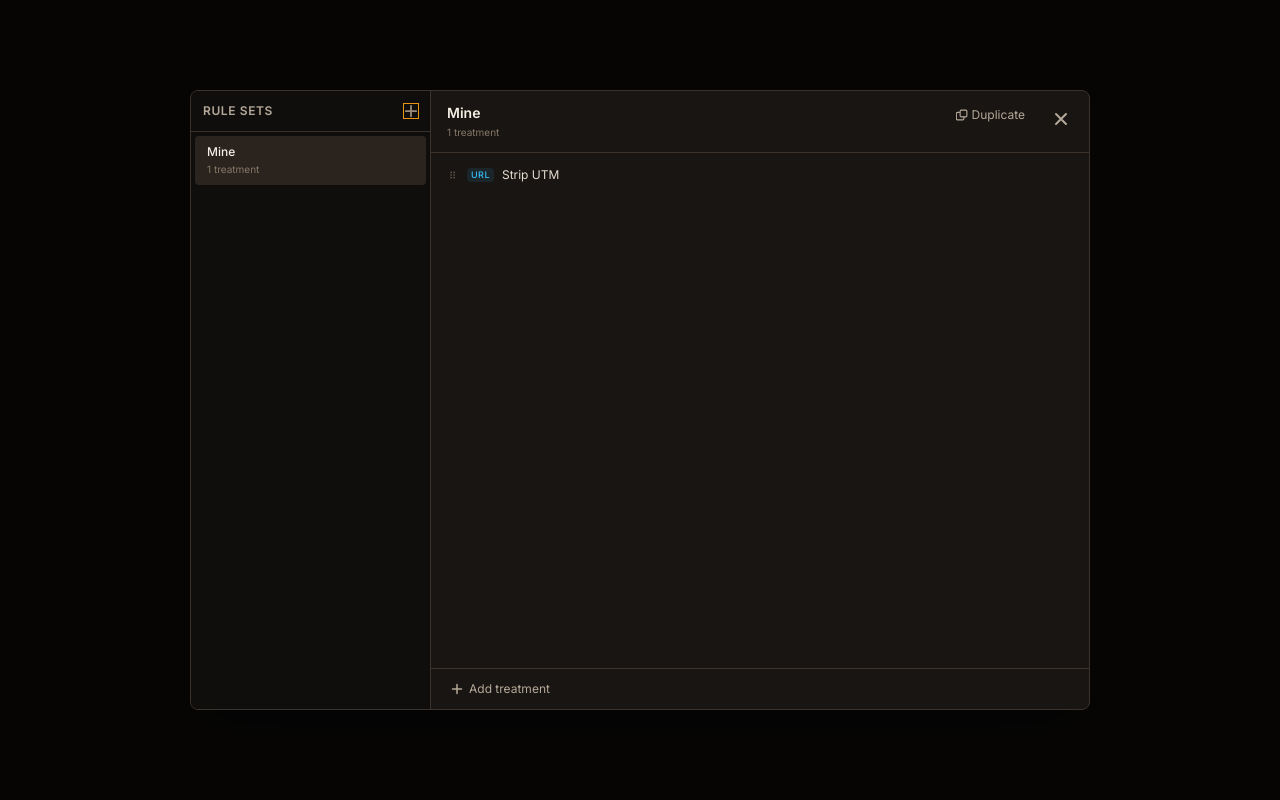
Test: RuleSetEditorModal › saves added treatments in order, with their config
The width and height of the screenshot is (1280, 800).
Expected: the heading "Mine" is shown, [447,104,480,121]
Click the button "Add treatment": coordinates (500, 689) [443,677,558,701]
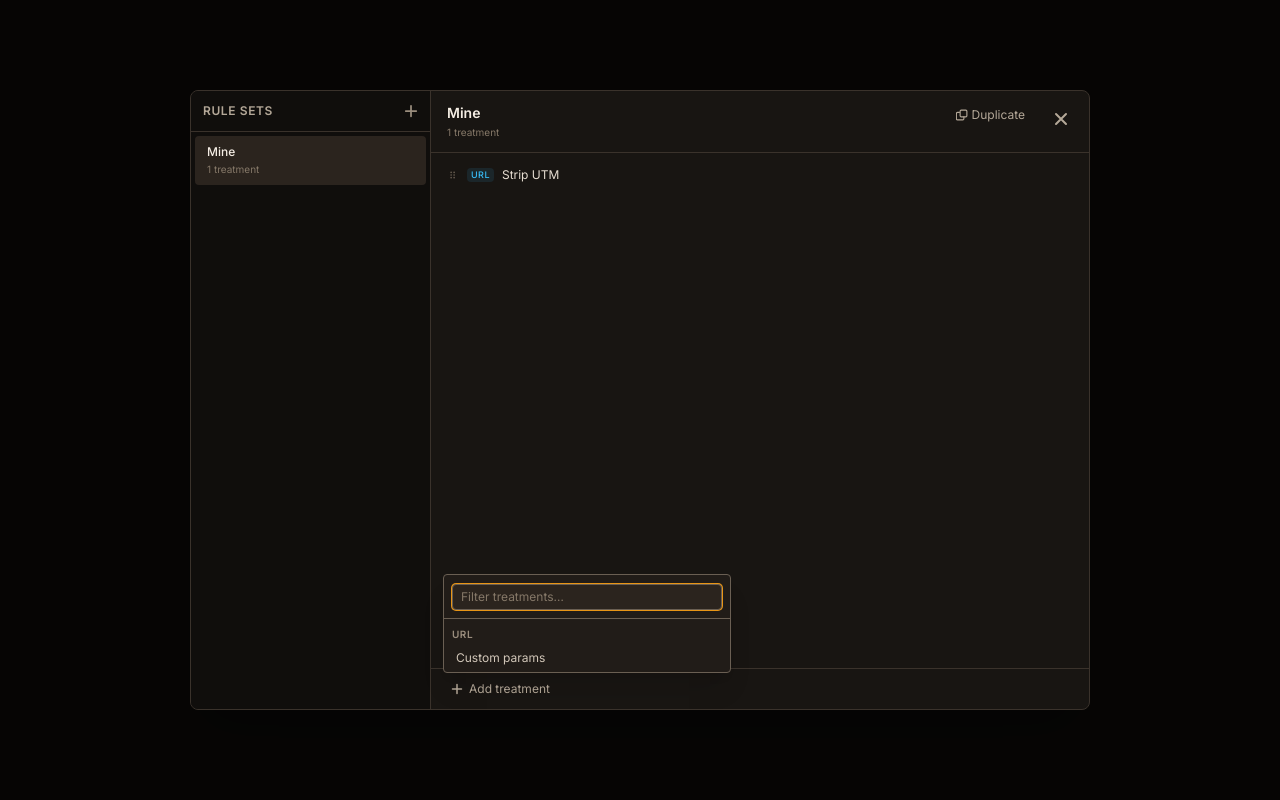
Click the button "Custom params": coordinates (501, 658) [444,644,730,672]
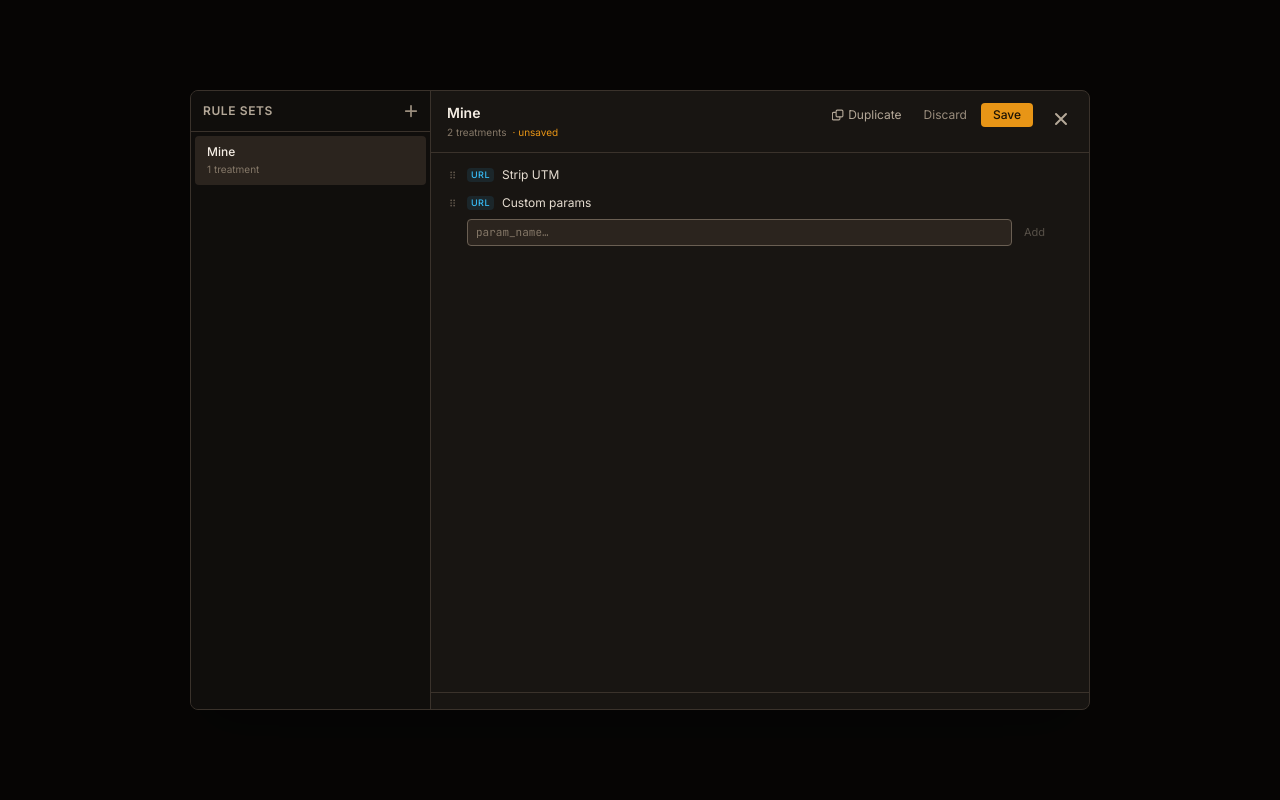
Expected: the text "· unsaved" is shown, [512,126,558,138]
In the field with placeholder "param_name…": coordinates (739, 232) [467,219,1012,246], type "fbclid"
Then press Enter
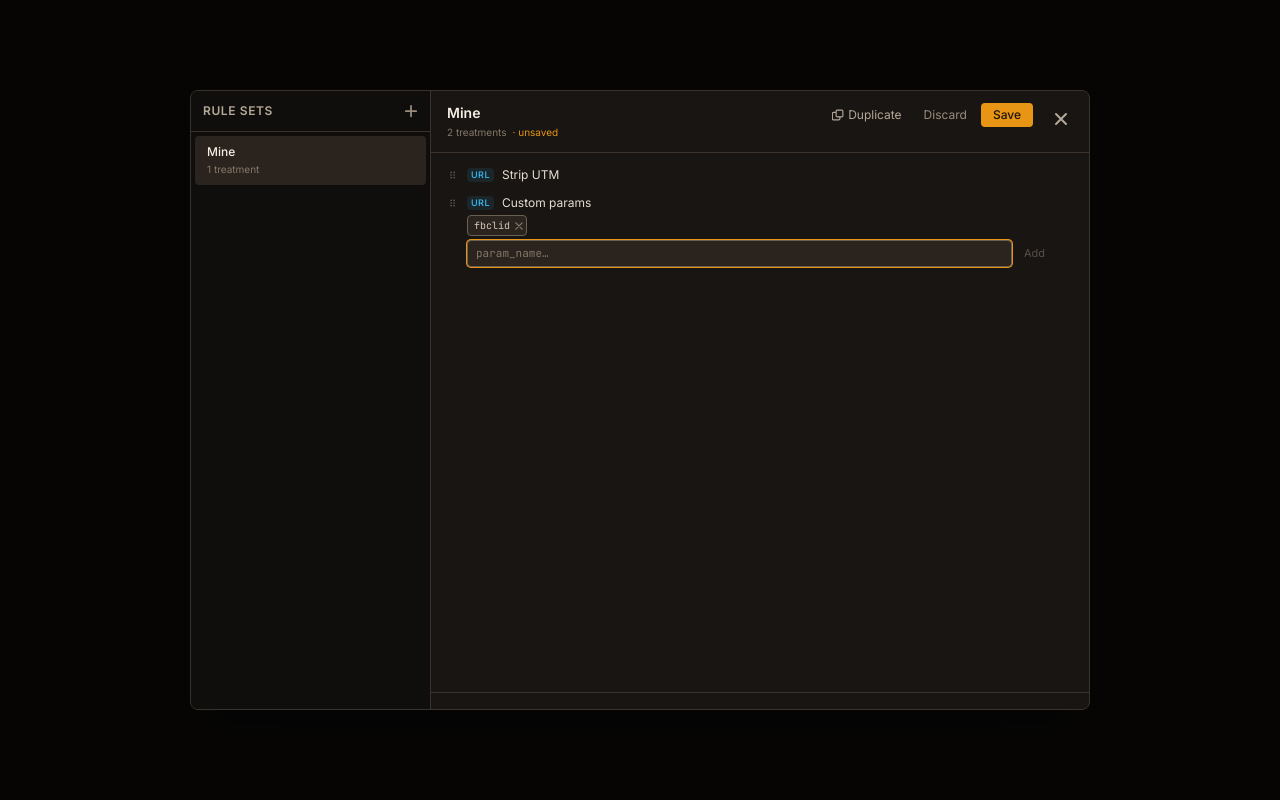
Click the button "Save": coordinates (1007, 115) [981,103,1033,127]
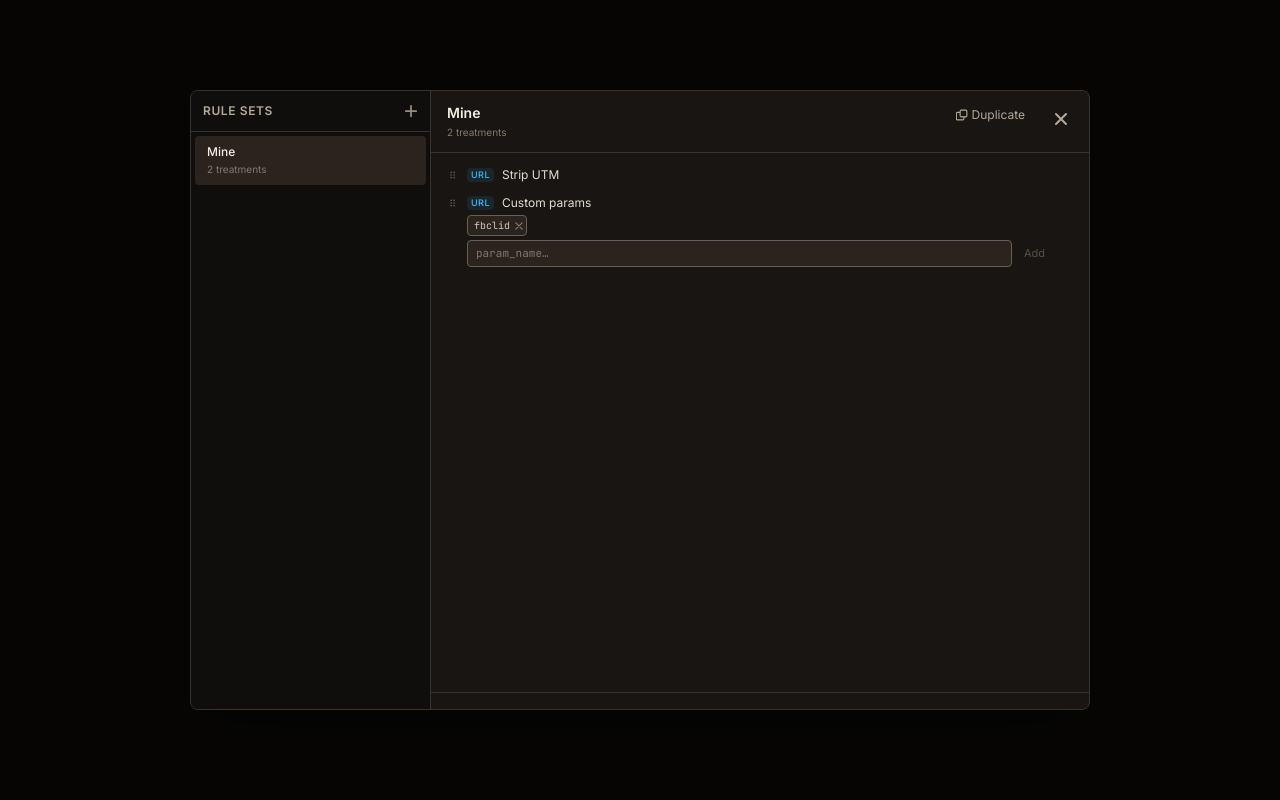
Expected: the text "unsaved" is gone
